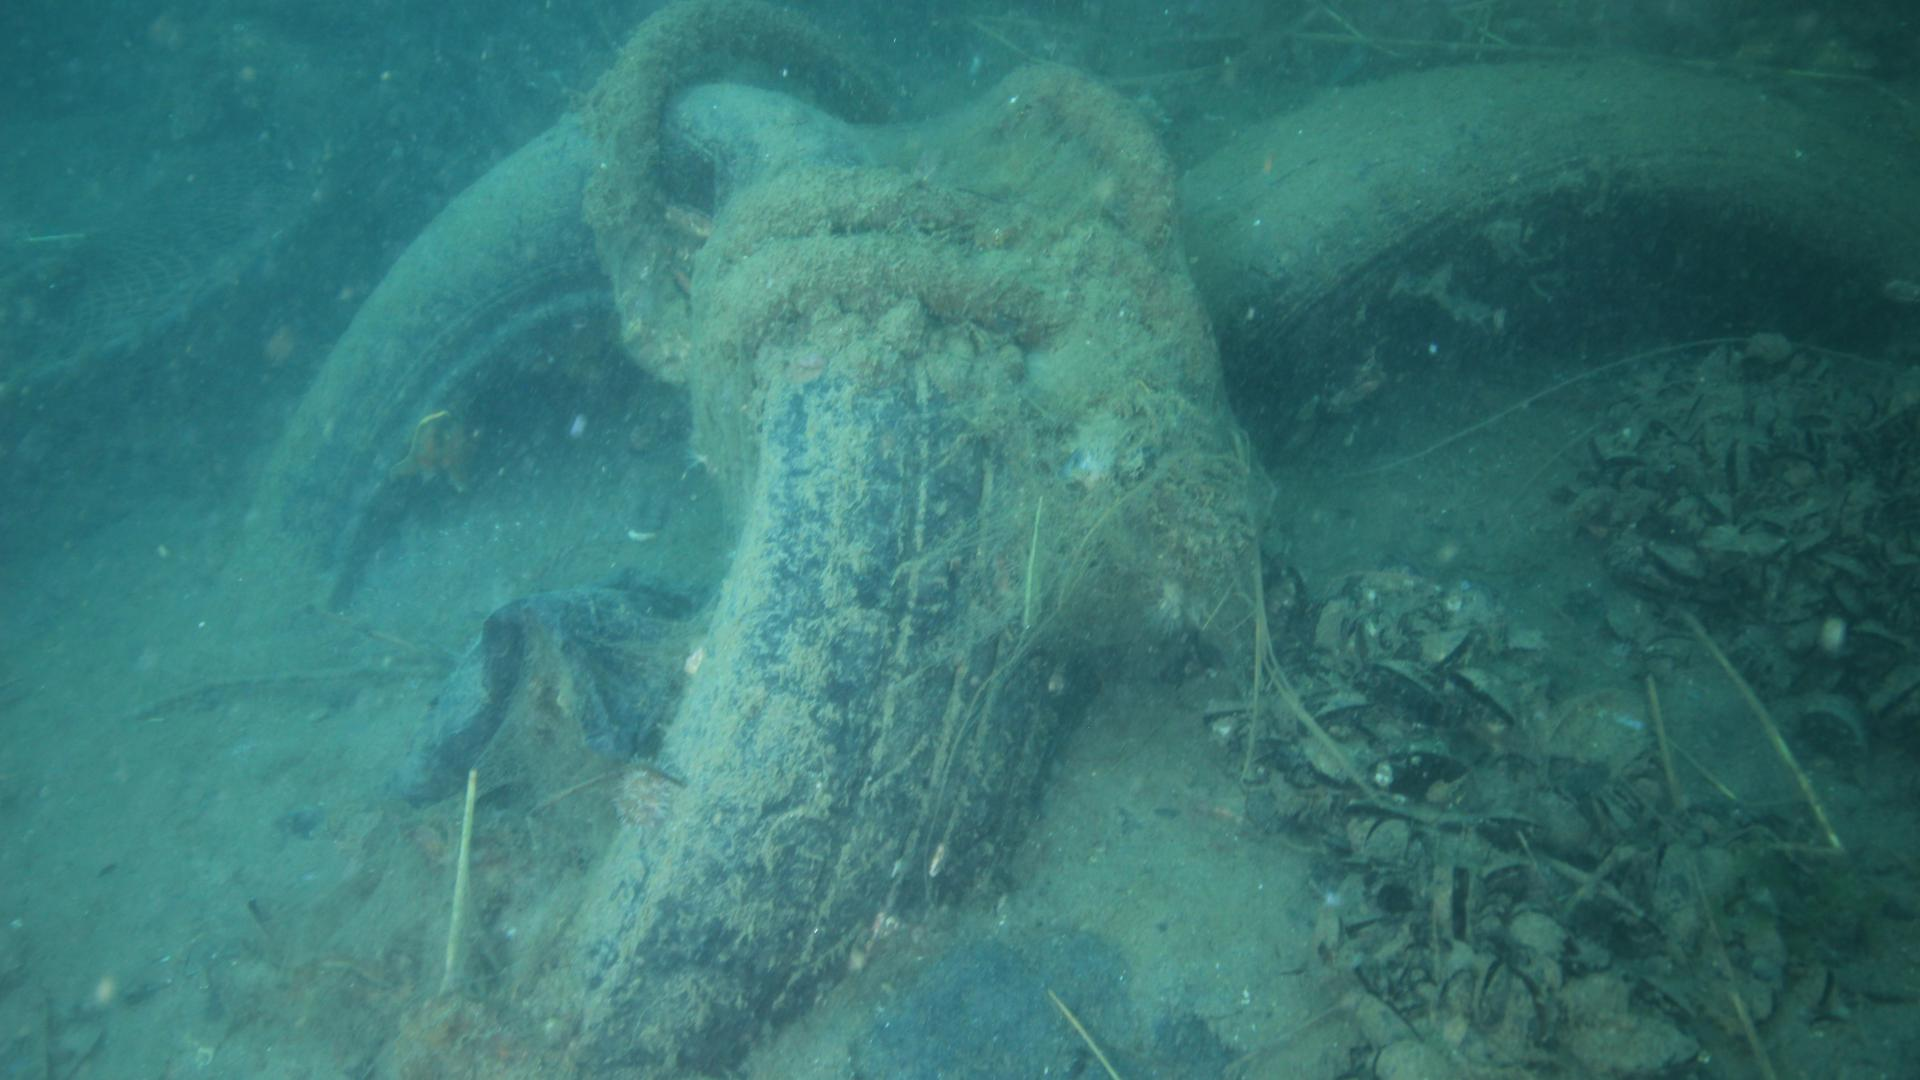tire: (237, 76, 1077, 1080)
